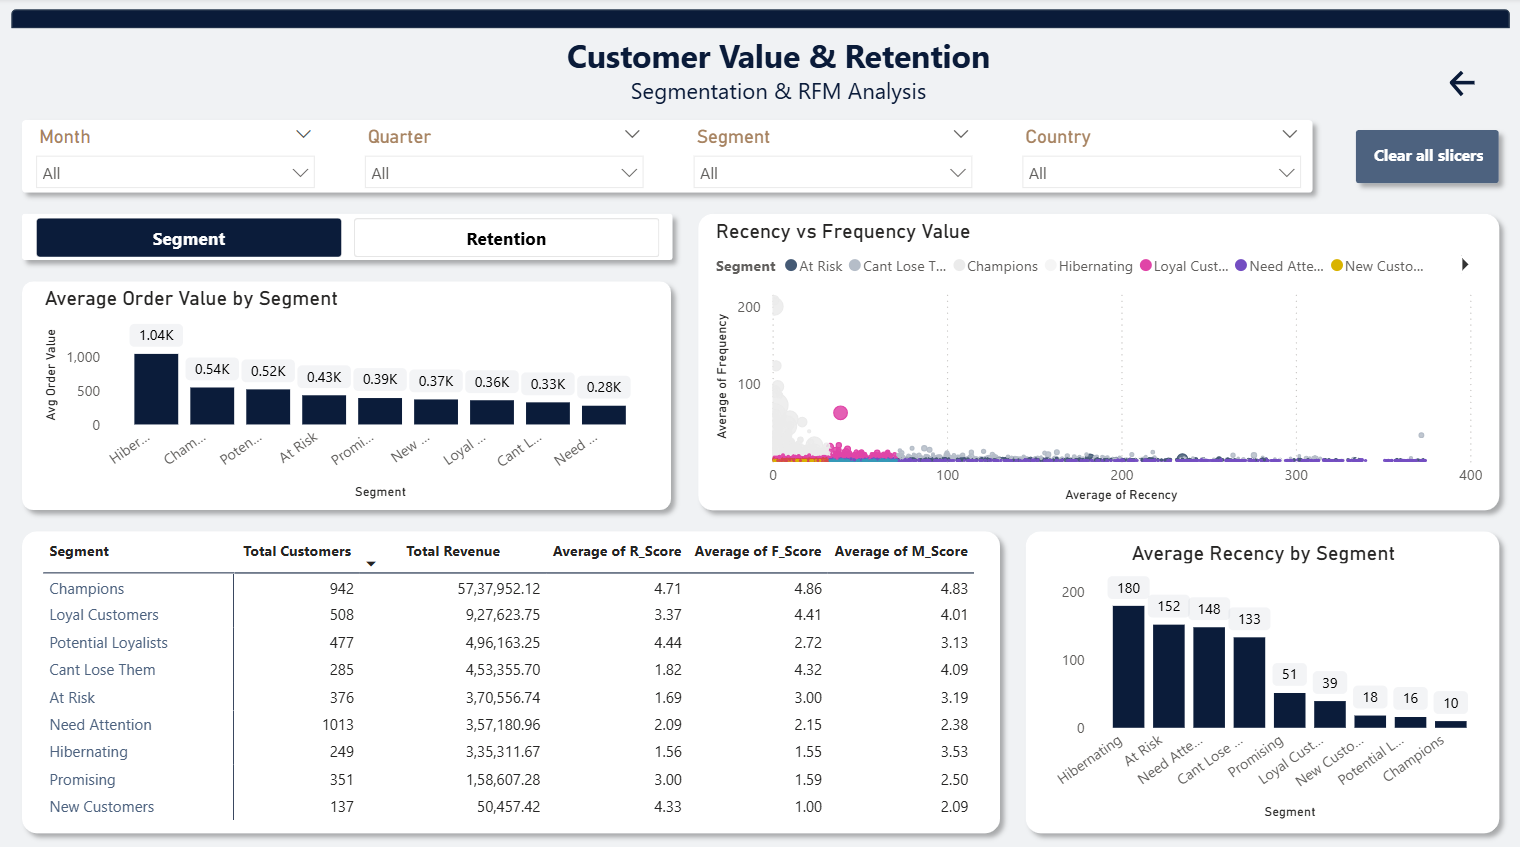

The page's visual inventory and layout, read from the dashboard file:
{"tool":"powerbi","page":{"name":"RFM Analysis","canvas":[1280,720],"ordinal":1},"visuals":[{"type":"shape","box":[9.3,94,1103.5,79.1],"z":0,"group":"g4"},{"type":"shape","box":[1131.4,102.3,138.4,62.8],"z":0,"group":"g3"},{"type":"slicer","fields":{"Values":["MonthlySales.Month.Variation.Date Hierarchy.Month"]},"box":[19.8,103.2,255.1,61.9],"z":0,"group":"g1"},{"type":"shape","box":[577.9,172.1,691.9,267.4],"z":0,"group":"g2"},{"type":"donutChart","title":"One-time vs. Repeat Buyers Donut","fields":{"Y":["CustomerRFM.One-Time Buyers","CustomerRFM.Repeat Buyers"]},"box":[33.8,242,518.6,184.9],"z":0,"group":"g5"},{"type":"shape","box":[853.5,439.5,416.3,272.1],"z":0},{"type":"group","id":"g1","title":"Group 1","box":[19.8,103.2,1084.7,61.9],"z":1000,"group":"g4"},{"type":"slicer","fields":{"Values":["MonthlySales.Month.Variation.Date Hierarchy.Quarter"]},"box":[296.4,103.2,255.1,61.9],"z":1000,"group":"g1"},{"type":"actionButton","box":[1141.4,105.4,119.8,52.3],"z":1000,"group":"g3"},{"type":"shape","box":[9.3,229.1,564,210.5],"z":1000},{"type":"columnChart","title":"One-time Buyers by Segment","fields":{"Category":["CustomerRFM.Segment"],"Y":["CustomerRFM.One-Time Buyers","CustomerRFM.Repeat Buyers"]},"box":[872.8,458.8,380.2,239.5],"z":1000,"group":"g5"},{"type":"textbox","box":[447.7,25.6,414,75.6],"z":2000},{"type":"slicer","fields":{"Values":["CustomerRFM.Segment"]},"box":[573,103.2,255.1,61.9],"z":2000,"group":"g1"},{"type":"tableEx","title":"High-Value Inactive Customers","fields":{"Values":["CustomerRFM.CustomerID","CustomerRFM.Segment","CustomerRFM.Retention Action","Max(CustomerRFM.Recency)","Max(CustomerRFM.Frequency)","Max(CustomerRFM.Monetary)"]},"box":[16.8,448.8,823.3,240.7],"z":2000,"group":"g5"},{"type":"slicer","fields":{"Values":["SalesTransactions.Country"]},"box":[849.4,103.2,255.1,61.9],"z":3000,"group":"g1"},{"type":"clusteredColumnChart","title":"Customers by Retention Action","fields":{"Y":["CustomerRFM.Total Customers"],"Category":["CustomerRFM.Retention Action"]},"box":[597.8,186.2,654.7,243],"z":3000,"group":"g5"},{"type":"shape","box":[9.3,439.5,840.7,272.1],"z":3000},{"type":"group","id":"g2","title":"Group 2","box":[577.9,172.1,691.9,267.4],"z":4000},{"type":"shape","box":[9.3,9.3,1260.5,16.3],"z":5000},{"type":"actionButton","box":[1215.1,57,37.2,30.2],"z":6000},{"type":"shape","box":[9.3,172.1,565.1,57],"z":7000},{"type":"group","id":"g3","title":"Group 8","box":[1131.4,102.3,138.4,62.8],"z":8000},{"type":"group","id":"g4","title":"Group 9","box":[9.3,94,1103.5,79.1],"z":9000},{"type":"group","id":"g5","title":"Retention","box":[16.8,186.2,1236.2,512.2],"z":10000},{"type":"bookmarkNavigator","box":[30.2,184.9,525.6,33.7],"z":11000}]}

Visuals, with their boxes in screenshot pixels (x1, y1, x2, y2), scaled from the page's 1280x720 canvas onto the 1520x847 screenshot:
shape: BBox(11, 111, 1321, 204)
shape: BBox(1344, 120, 1508, 194)
slicer - MonthlySales.Month.Variation.Date Hierarchy.Month: BBox(24, 121, 326, 194)
shape: BBox(686, 202, 1508, 517)
"One-time vs. Repeat Buyers Donut" donutChart: BBox(40, 285, 656, 502)
shape: BBox(1014, 517, 1508, 837)
"Group 1" group: BBox(24, 121, 1312, 194)
slicer - MonthlySales.Month.Variation.Date Hierarchy.Quarter: BBox(352, 121, 655, 194)
actionButton: BBox(1355, 124, 1498, 186)
shape: BBox(11, 270, 681, 517)
"One-time Buyers by Segment" columnChart: BBox(1036, 540, 1488, 821)
textbox: BBox(532, 30, 1023, 119)
slicer - CustomerRFM.Segment: BBox(680, 121, 983, 194)
"High-Value Inactive Customers" tableEx: BBox(20, 528, 998, 811)
slicer - SalesTransactions.Country: BBox(1009, 121, 1312, 194)
"Customers by Retention Action" clusteredColumnChart: BBox(710, 219, 1487, 505)
shape: BBox(11, 517, 1009, 837)
"Group 2" group: BBox(686, 202, 1508, 517)
shape: BBox(11, 11, 1508, 30)
actionButton: BBox(1443, 67, 1487, 103)
shape: BBox(11, 202, 682, 270)
"Group 8" group: BBox(1344, 120, 1508, 194)
"Group 9" group: BBox(11, 111, 1321, 204)
"Retention" group: BBox(20, 219, 1488, 822)
bookmarkNavigator: BBox(36, 218, 660, 257)
